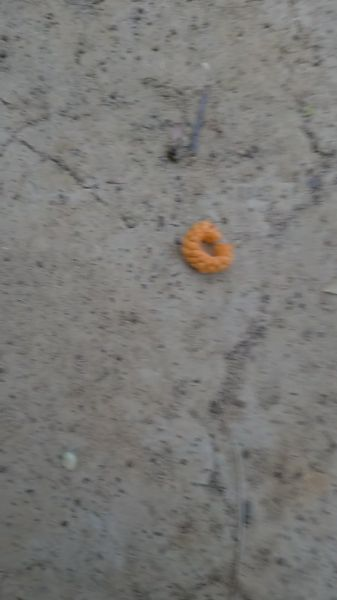eggs: (173, 208, 242, 281)
